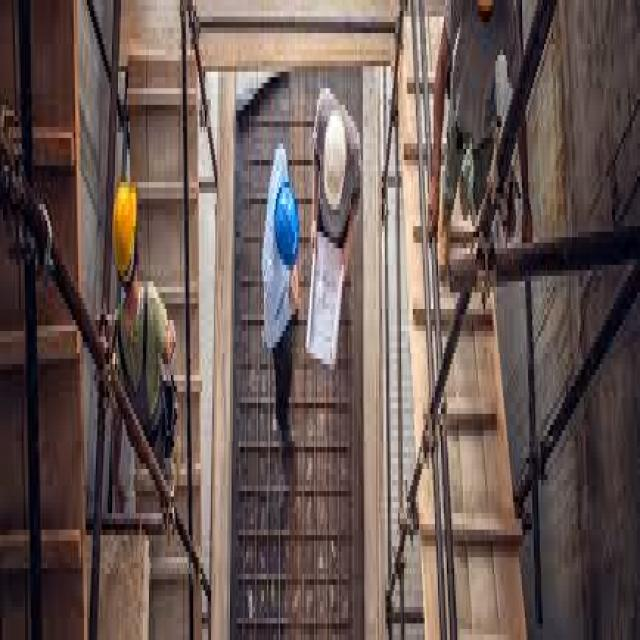Reflective-Jacket: (115, 281, 171, 436)
Safety-Helmet: (108, 165, 142, 287), (273, 171, 301, 270)
